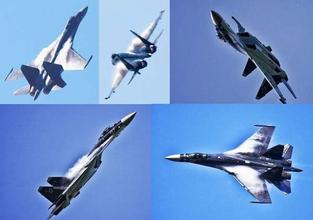airplane: (31, 111, 137, 218), (164, 123, 293, 204), (201, 7, 298, 103), (4, 4, 93, 101), (101, 7, 167, 102)
